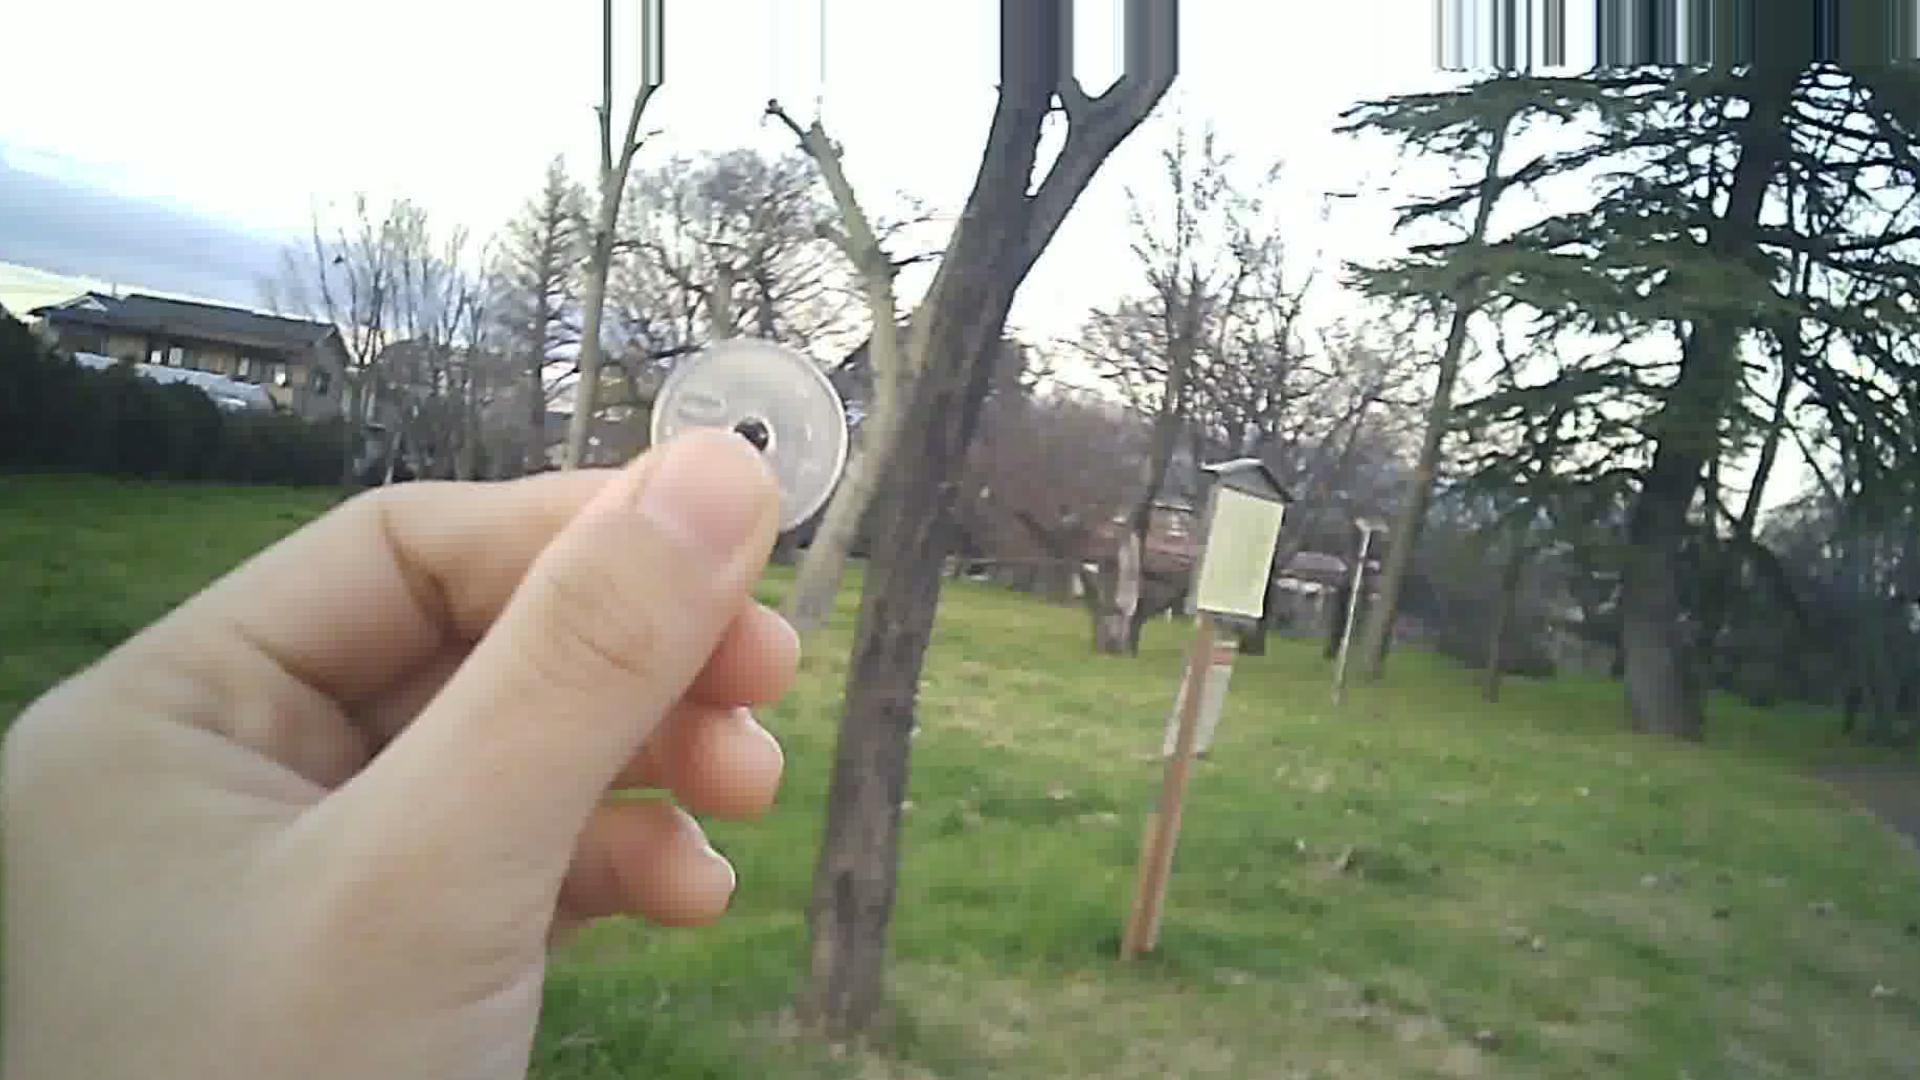50 Yen: (647, 326, 851, 522)
